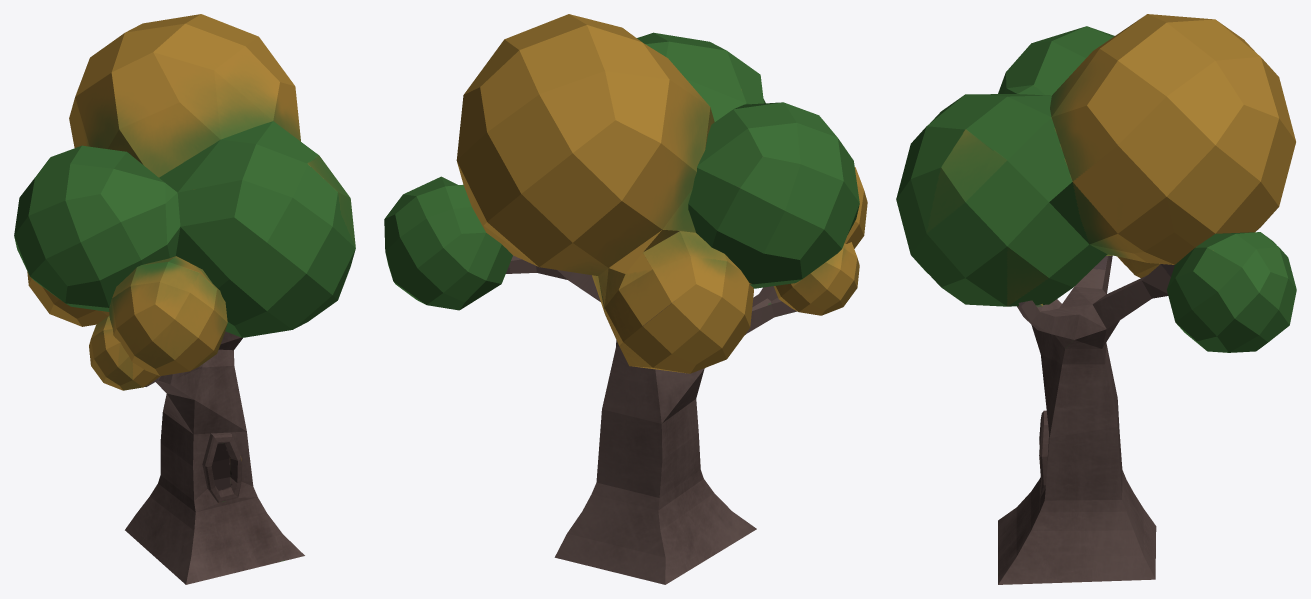
Rendered from 3DObj_TreeHole_v3.fbx.
3 renders of one model, left to right at view 1: azimuth 30°, elevation 25°; view 2: azimuth 150°, elevation 25°; view 3: azimuth 270°, elevation 25°, orthographic. The views are drawn at different scales.
Parts seen in each view (by area): view 1: 3DObj_TreeHole_v3; view 2: 3DObj_TreeHole_v3; view 3: 3DObj_TreeHole_v3.
Boxes of the visible parts, <box> form: 3DObj_TreeHole_v3: <box>14,14,355,584</box>; 3DObj_TreeHole_v3: <box>384,14,867,584</box>; 3DObj_TreeHole_v3: <box>896,14,1296,584</box>.
Size of the model in its own units: 354 by 487 by 328.
Materials: 1 (1 with a texture image).
